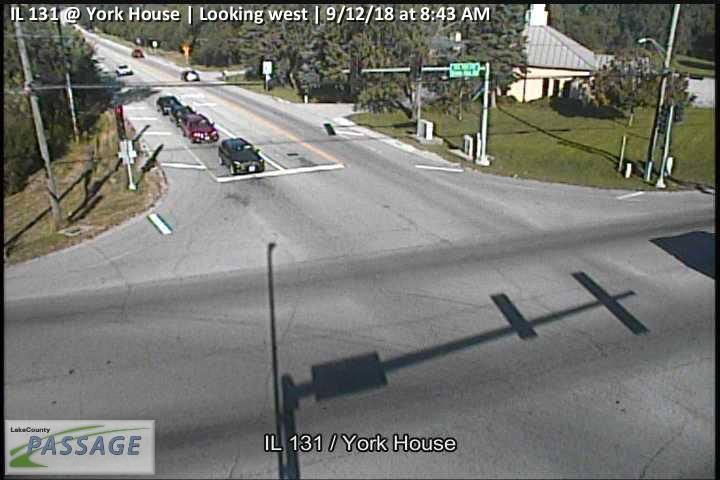SUV: (217, 137, 265, 177)
Sedan: (156, 95, 178, 113)
